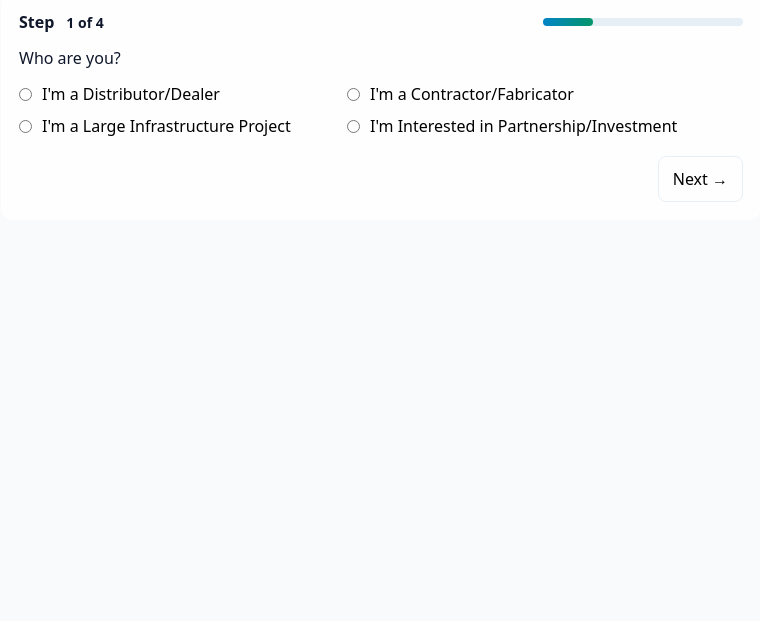
Test case: InquiryForm › renders and advances steps
The width and height of the screenshot is (760, 621).
Expected: the heading "Who are you?" is shown, [19,47,121,69]
Expected: the button "Next →" is disabled, [658,156,743,202]
# Select the distributor option and proceed
Click the text "I'm a Distributor/Dealer". click: x=131, y=94
box: [42,82,220,106]
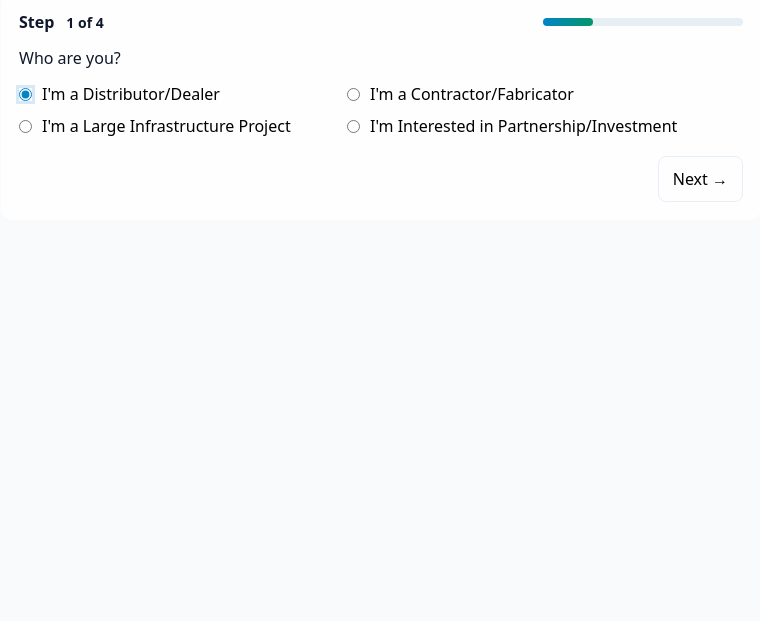
Click the button "Next →". click: x=700, y=179
box: [658,156,743,202]
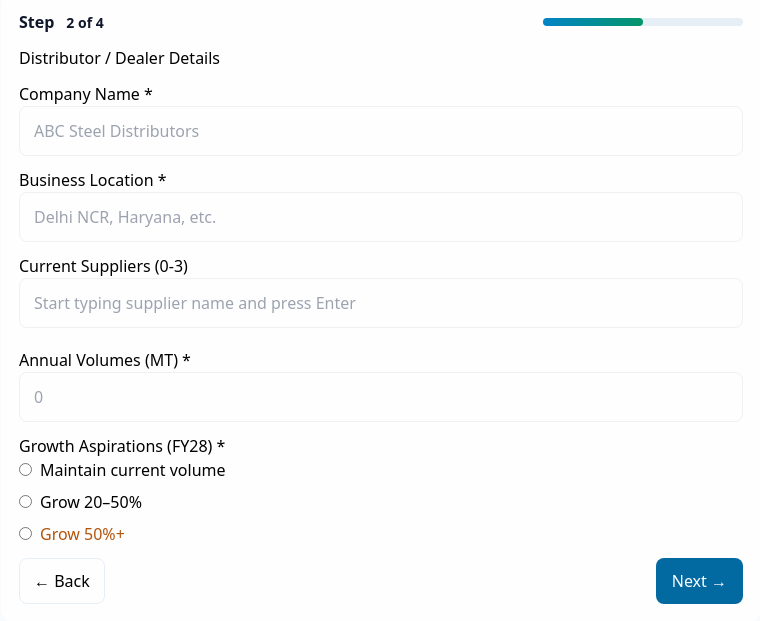
Result: the heading "Distributor / Dealer Details" is shown at [19,47,220,69]
